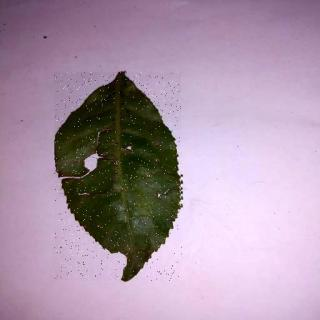Bird Eye Spot: (56, 73, 183, 282)
